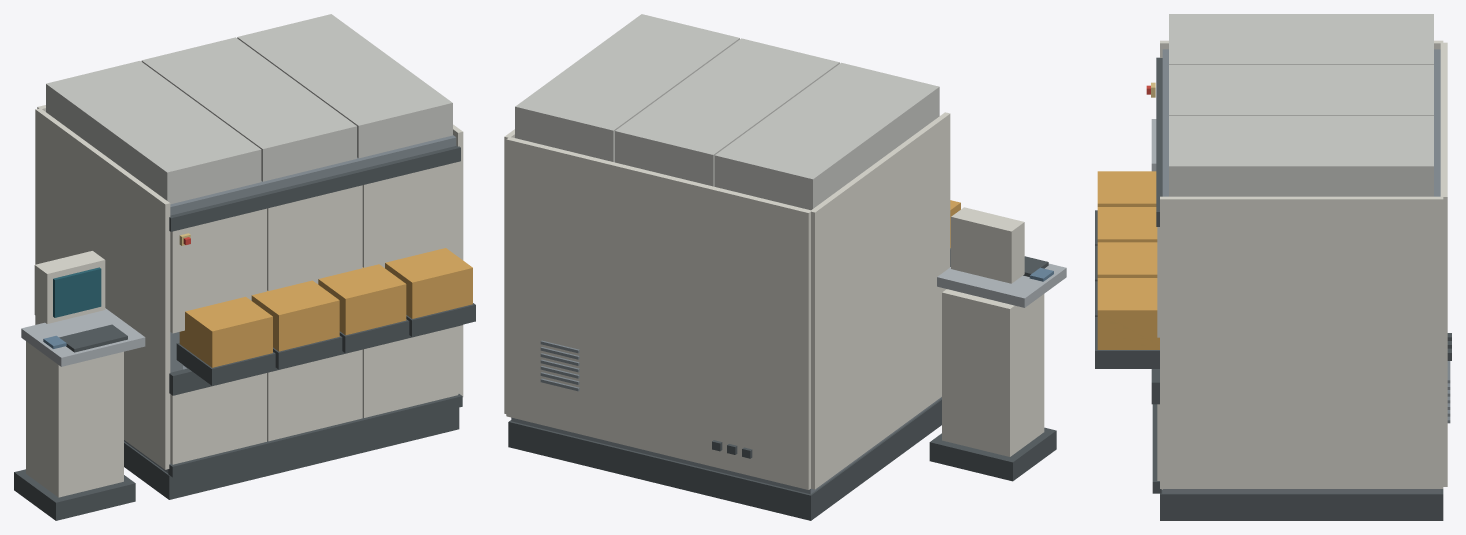
The model's file is pas5500.glb.
The picture shows the model from 3 angles, left to right: view 1: azimuth 30°, elevation 25°; view 2: azimuth 150°, elevation 25°; view 3: azimuth 270°, elevation 25°; orthographic projection. The views are drawn at different scales.
Parts seen in each view (by area): view 1: Enclosure-left, Enclosure-upper-0, Enclosure-upper-1, Enclosure-upper-2, Workstation-pedestal, Enclosure-front-panel-0, Enclosure-front-panel-2, Enclosure-front-panel-1, Main-plinth, Enclosure-lower-panel-0, Enclosure-lower-panel-2, Enclosure-lower-panel-1 (+18 smaller); view 2: Enclosure-rear, Enclosure-left, Enclosure-upper-0, Enclosure-upper-1, Enclosure-upper-2, Workstation-pedestal, Main-plinth, Workstation-monitor-body, Workstation-base, Workstation-desk, Frame-base, Enclosure-right; view 3: Enclosure-right, Enclosure-upper-2, Enclosure-upper-0, Enclosure-upper-1, Main-plinth, Handler-window-3, Enclosure-rear, Handler-window-2, Handler-window-1, Handler-window-0, Frame-top, Frame-base (+3 smaller).
Boxes of the visible parts, bbox=[...] form: Enclosure-left: bbox=[35, 108, 170, 469]; Enclosure-upper-0: bbox=[46, 61, 261, 204]; Enclosure-upper-1: bbox=[141, 37, 356, 181]; Enclosure-upper-2: bbox=[237, 14, 452, 158]; Workstation-pedestal: bbox=[26, 341, 123, 497]; Enclosure-front-panel-0: bbox=[170, 208, 266, 333]; Enclosure-front-panel-2: bbox=[362, 162, 458, 267]; Enclosure-front-panel-1: bbox=[267, 185, 362, 290]; Main-plinth: bbox=[124, 407, 459, 499]; Enclosure-lower-panel-0: bbox=[170, 373, 266, 464]; Enclosure-lower-panel-2: bbox=[362, 326, 458, 417]; Enclosure-lower-panel-1: bbox=[267, 349, 362, 441]; Enclosure-rear: bbox=[506, 137, 810, 489]; Enclosure-left: bbox=[810, 112, 950, 489]; Enclosure-upper-0: bbox=[714, 62, 939, 210]; Enclosure-upper-1: bbox=[615, 38, 839, 186]; Enclosure-upper-2: bbox=[515, 14, 739, 162]; Workstation-pedestal: bbox=[942, 289, 1044, 456]; Main-plinth: bbox=[508, 398, 941, 520]; Workstation-monitor-body: bbox=[951, 207, 1024, 283]; Workstation-base: bbox=[929, 427, 1056, 481]; Workstation-desk: bbox=[937, 263, 1066, 307]; Frame-base: bbox=[511, 397, 941, 494]; Enclosure-right: bbox=[504, 129, 514, 413]; Enclosure-right: bbox=[1160, 196, 1443, 488]; Enclosure-upper-2: bbox=[1169, 116, 1433, 196]; Enclosure-upper-0: bbox=[1169, 14, 1433, 64]; Enclosure-upper-1: bbox=[1169, 65, 1433, 115]; Main-plinth: bbox=[1160, 489, 1443, 520]; Handler-window-3: bbox=[1097, 278, 1159, 349]; Enclosure-rear: bbox=[1440, 42, 1447, 486]; Handler-window-2: bbox=[1097, 242, 1157, 277]; Handler-window-1: bbox=[1097, 207, 1157, 242]; Handler-window-0: bbox=[1097, 171, 1156, 206]; Frame-top: bbox=[1162, 49, 1440, 196]; Frame-base: bbox=[1162, 489, 1440, 493].
Size of the model in its own units: 2.8 by 2.13 by 1.95.
